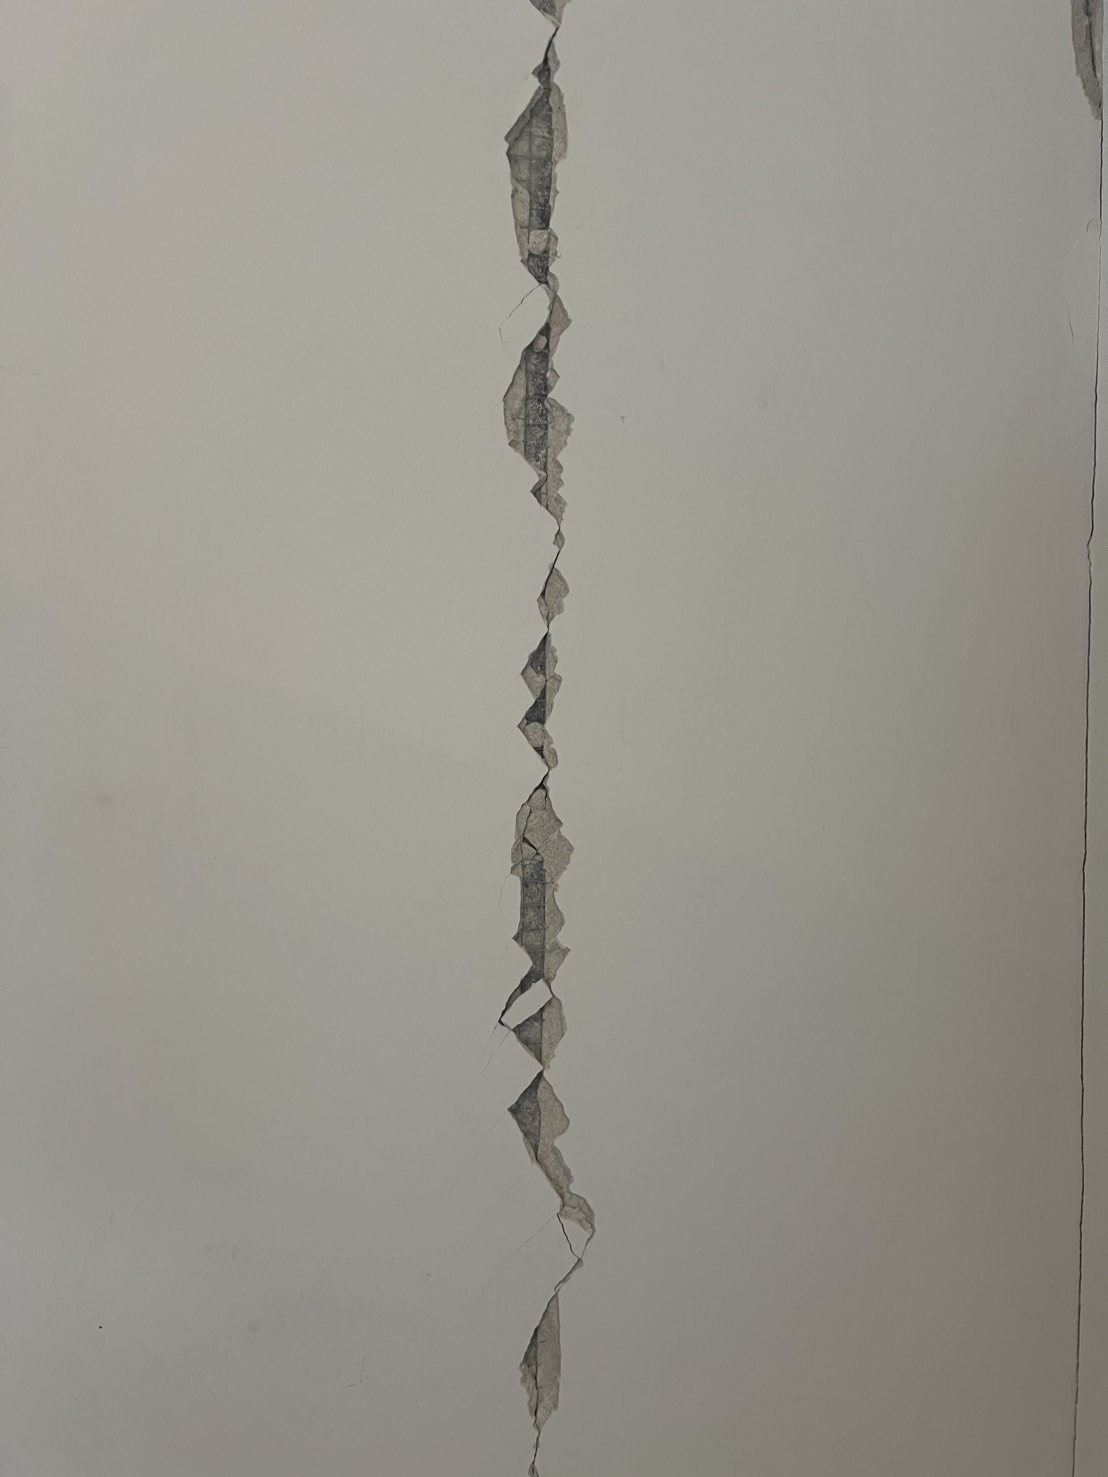Medium: (434, 61, 628, 1159)
